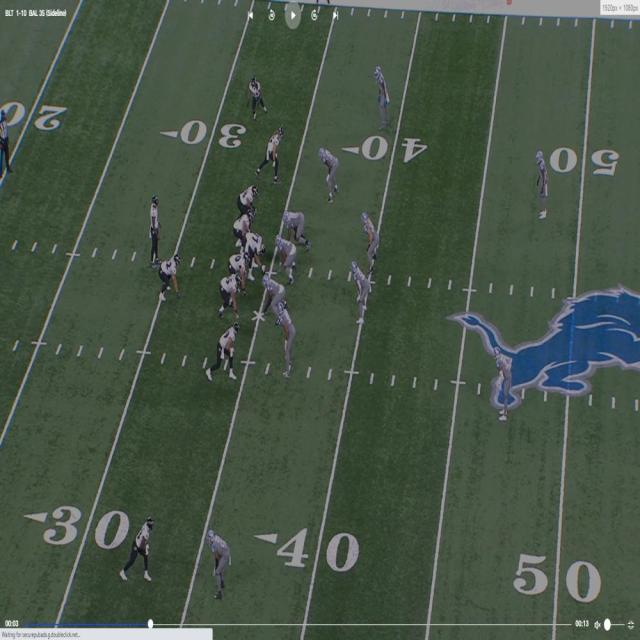center: (248, 235, 269, 278)
db: (493, 346, 515, 426), (205, 526, 229, 597), (536, 150, 550, 218), (375, 67, 388, 124)
lb: (360, 208, 378, 271), (349, 262, 367, 324), (278, 304, 294, 372), (320, 146, 338, 202)
qb: (148, 198, 158, 269)
skill: (126, 516, 157, 580), (217, 324, 241, 379), (264, 125, 286, 180), (251, 76, 269, 117), (160, 253, 178, 294)
